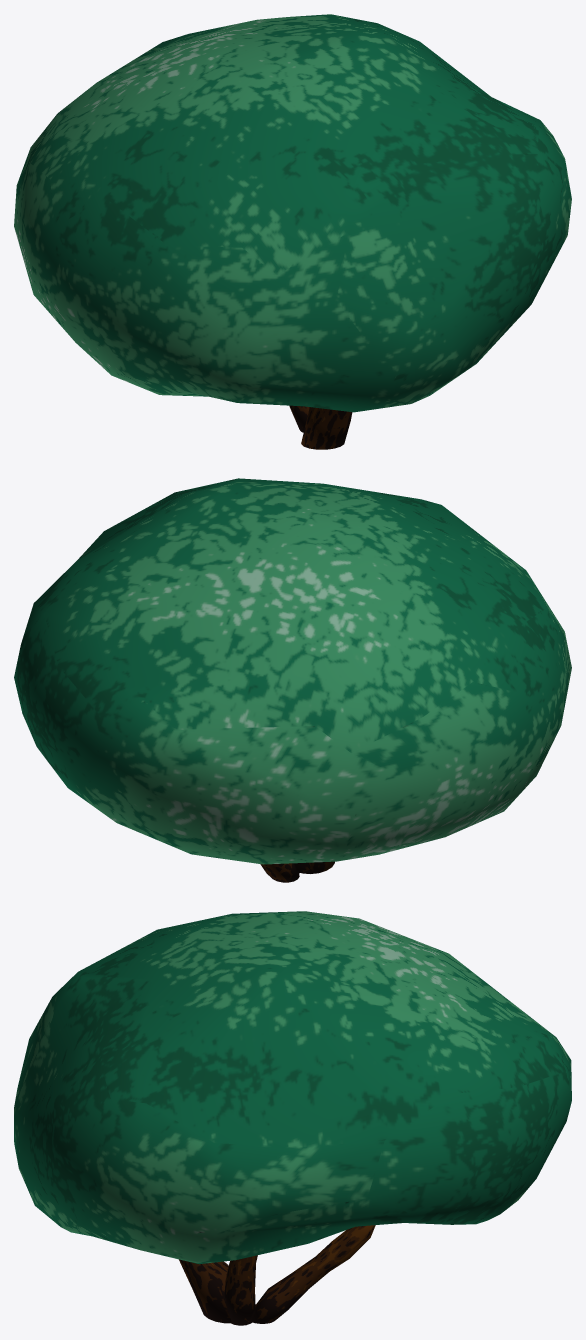
Rendered from bush3.glb.
3 views of the same model, one above another, from view 1: azimuth 30°, elevation 25°; view 2: azimuth 150°, elevation 25°; view 3: azimuth 270°, elevation 25° (orthographic).
Parts seen in each view (by area): view 1: Bush; view 2: Bush; view 3: Bush.
Boxes of the visible parts, x1,y1,x2,y2 form: Bush: (14,14,571,449); Bush: (14,478,571,882); Bush: (14,911,571,1325).
Bounding box in the file's own units: 1.62 × 1.24 × 1.67.
2 materials, 2 textured.
